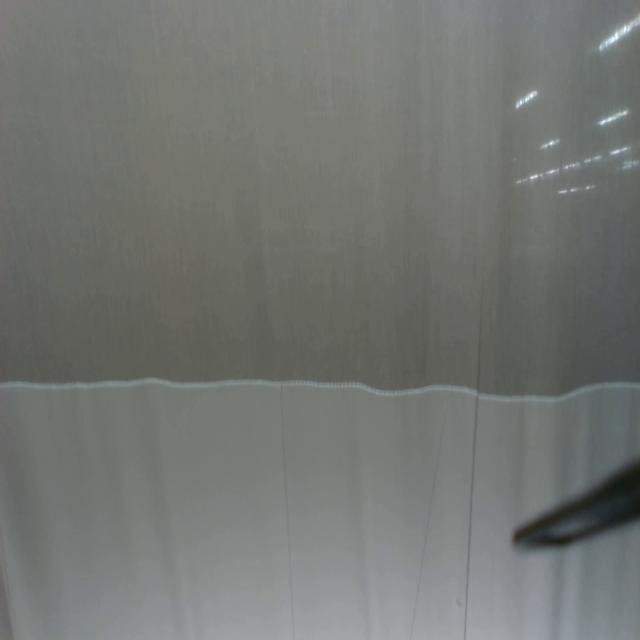crease: (462, 271, 488, 640), (408, 410, 449, 640), (276, 385, 300, 636)
hole: (453, 598, 462, 611)
